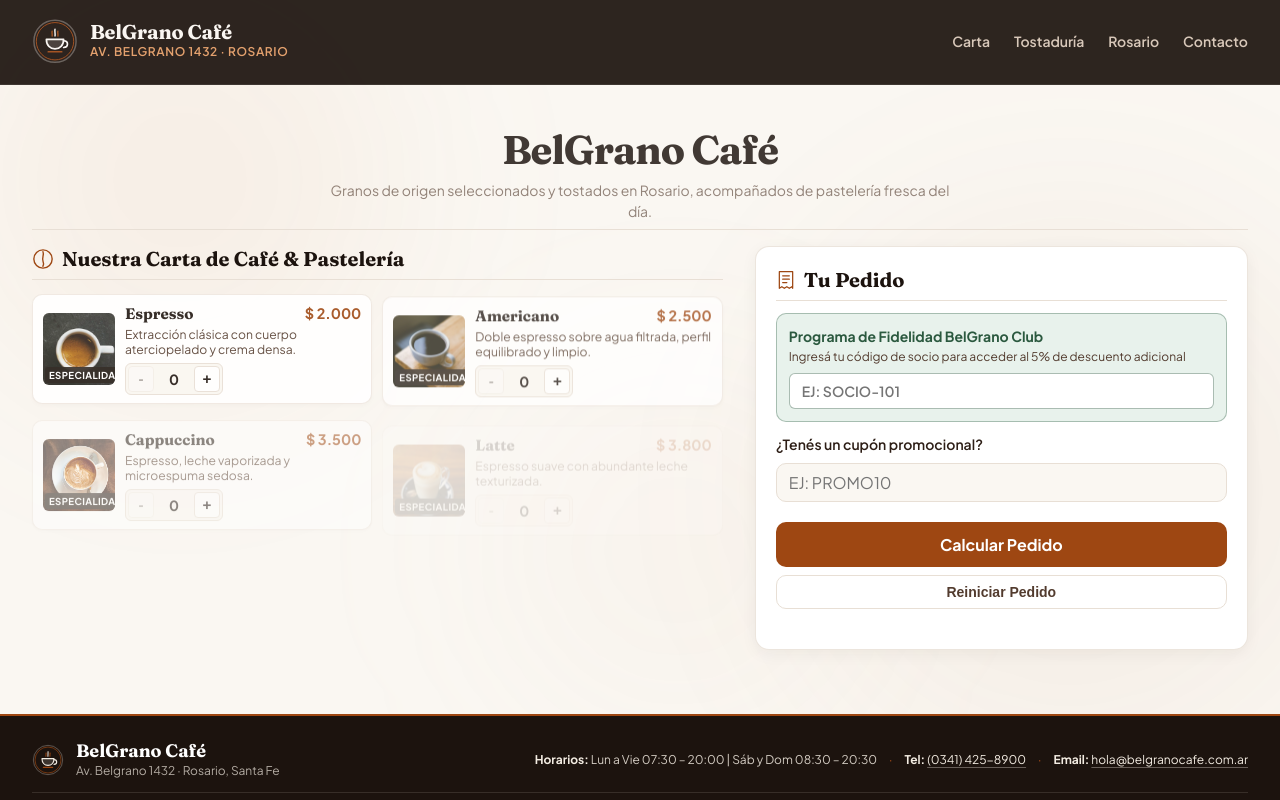
Test: Integration Tests: Flujos de Interfaz y Negocio (React Testing Library) › impide calcular un pedido vacío y muestra alerta accesible
Click the button "Calcular Pedido": (1001, 545) [776, 522, 1227, 567]
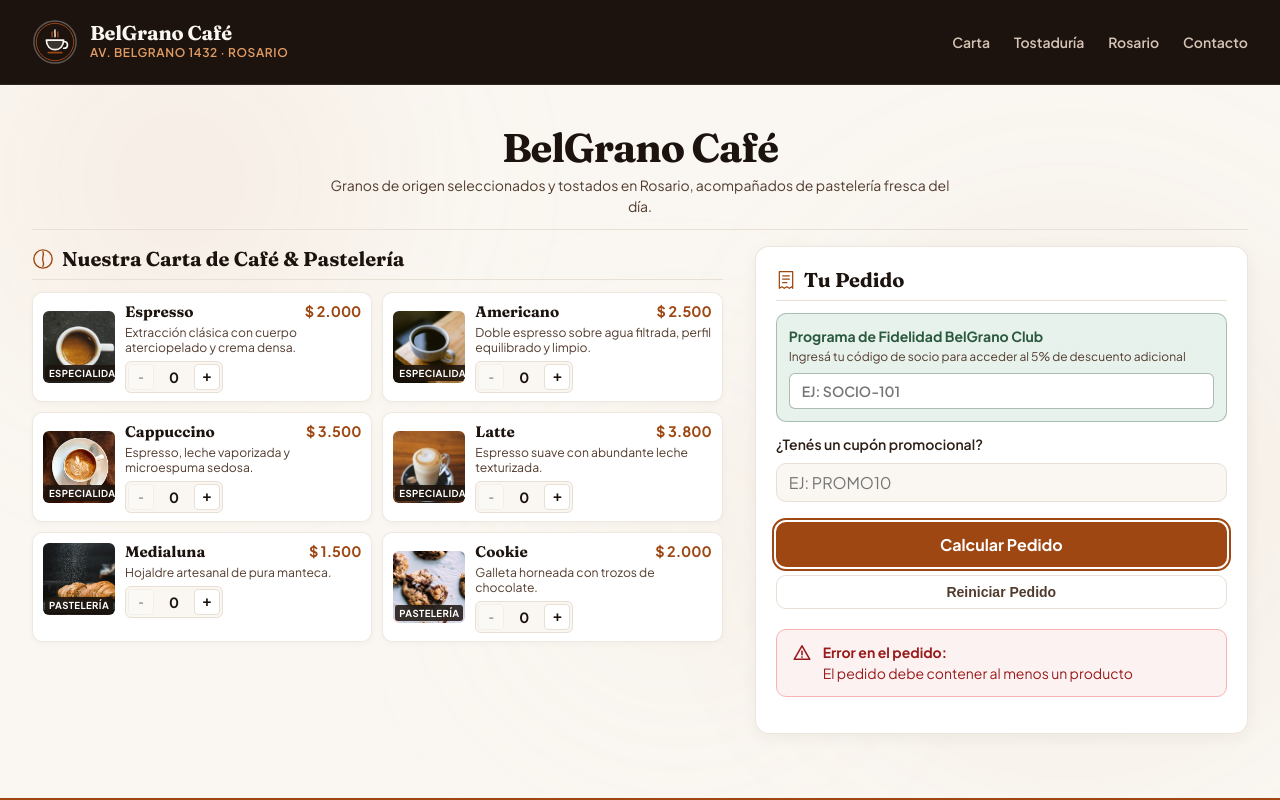
Now the message "Error en el pedido: El pedido debe contener al menos un producto" is shown, box [776, 629, 1227, 697]
Now the message shows "El pedido debe contener al menos un producto", box [823, 664, 1133, 682]
